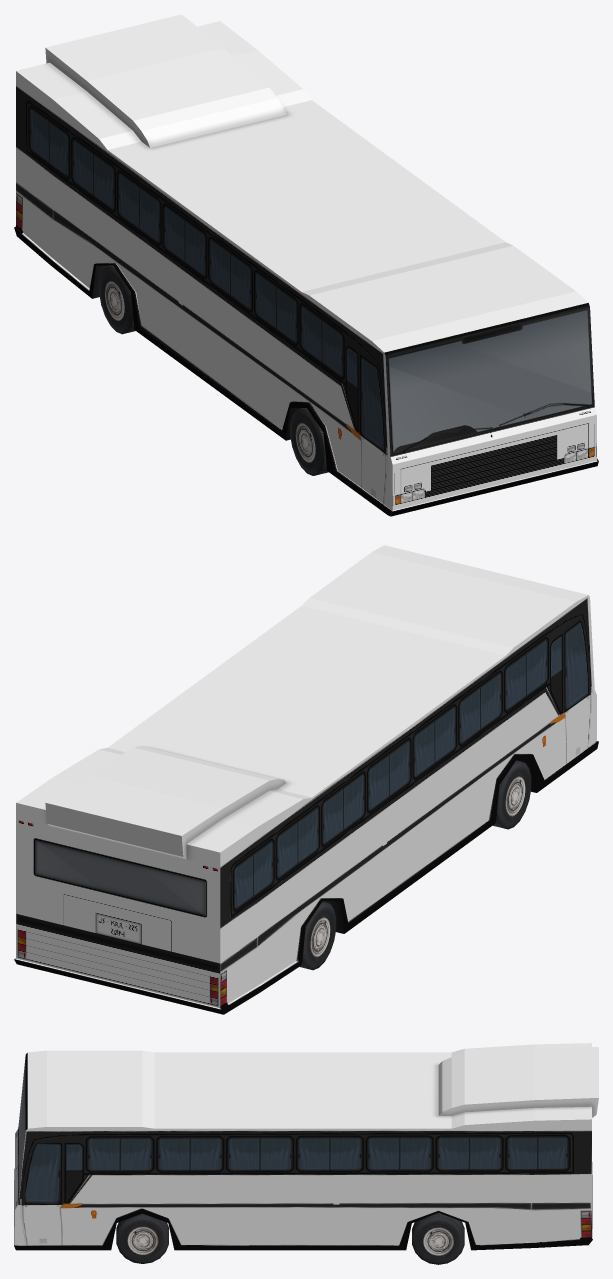
Rendered from bus.fbx.
3 views of the same model, one above another, from view 1: azimuth 30°, elevation 25°; view 2: azimuth 150°, elevation 25°; view 3: azimuth 270°, elevation 25° (orthographic). The views are drawn at different scales.
Visible parts, largest first — view 1: body, FRENT_LEFT_TYRE7, FRENT_LEFT_TYRE8; view 2: body, FRENT_LEFT_TYRE7, FRENT_LEFT_TYRE8; view 3: body, FRENT_LEFT_TYRE6, FRENT_LEFT_TYRE4.
Boxes of the visible parts, bbox=[...] form: body: bbox=[14, 14, 598, 516]; FRENT_LEFT_TYRE7: bbox=[290, 408, 328, 475]; FRENT_LEFT_TYRE8: bbox=[99, 265, 135, 334]; body: bbox=[14, 545, 598, 1014]; FRENT_LEFT_TYRE7: bbox=[493, 760, 531, 829]; FRENT_LEFT_TYRE8: bbox=[299, 901, 336, 970]; body: bbox=[14, 1043, 598, 1250]; FRENT_LEFT_TYRE6: bbox=[412, 1213, 464, 1264]; FRENT_LEFT_TYRE4: bbox=[116, 1213, 168, 1263].
Bounding box in the file's own units: 12.69 × 11.42 × 39.54.
Materials: 1 (1 with a texture image).
